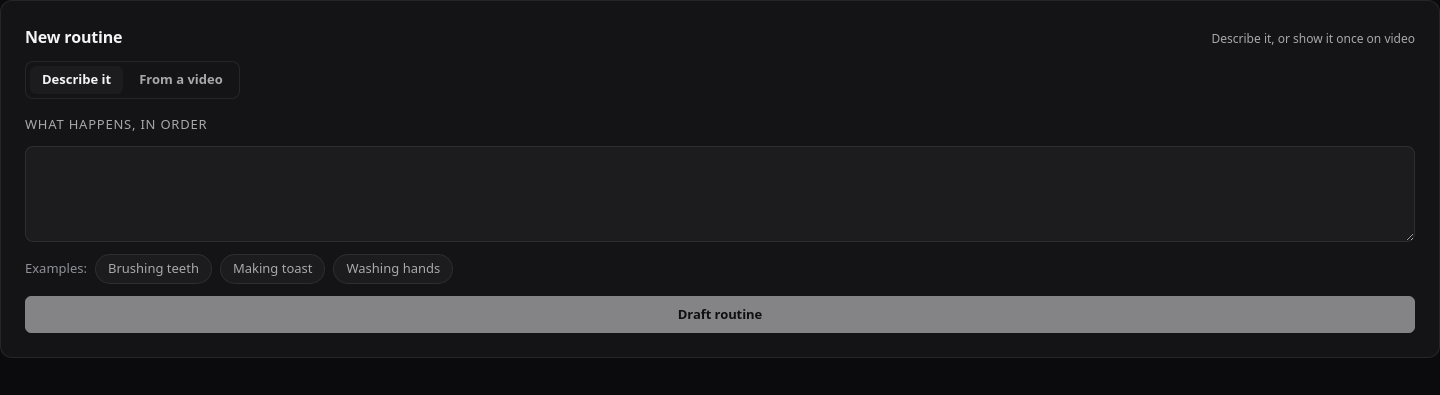
Test case: Describe it › shows the server detail, not a canned draft, when the API refuses the description
In the text box labelled "What happens, in order": (720, 194) [25,146,1415,242], type "Brush my teeth every morning"
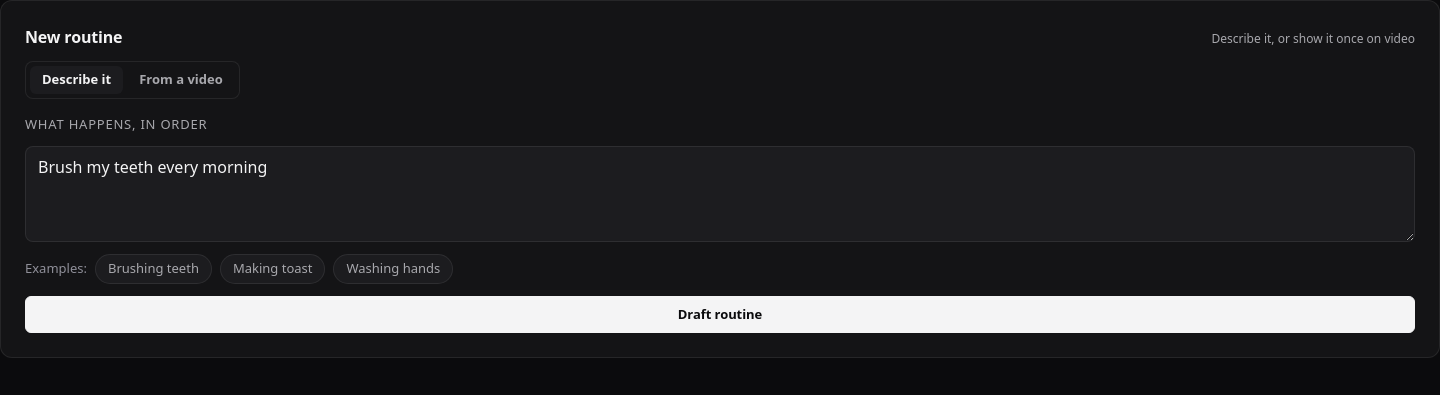
Click the button "Draft routine": (720, 314) [25,296,1415,333]
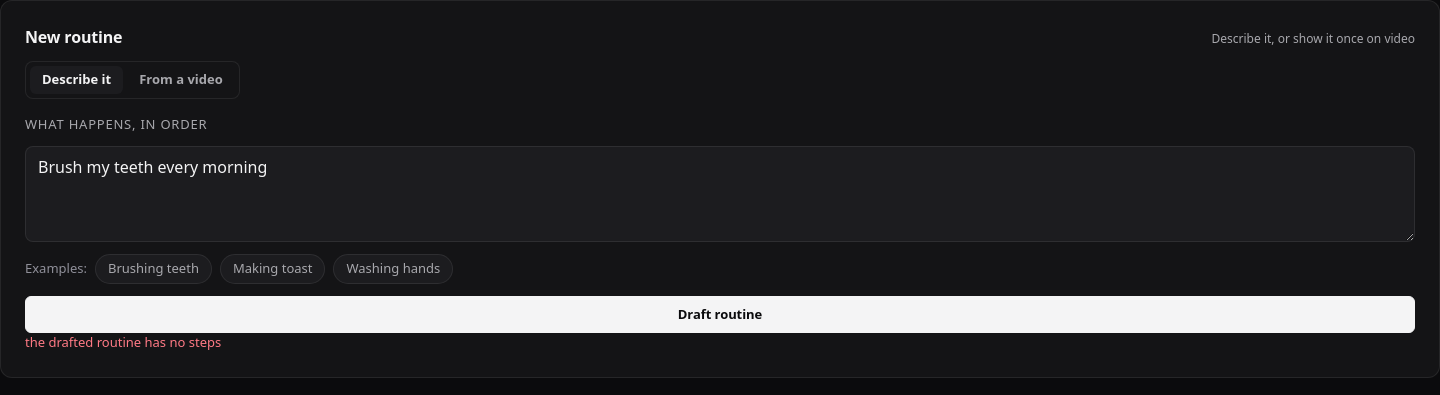
Result: the message reads "the drafted routine has no steps" at [25,333,221,351]
